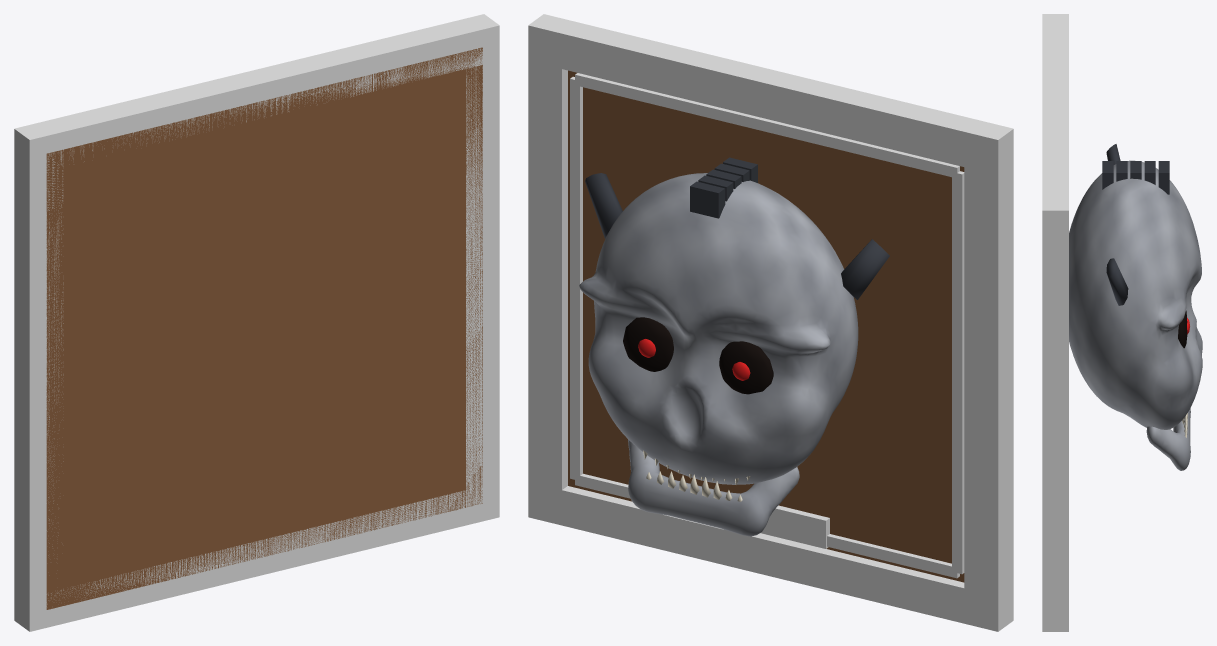
Rendered from skeletron_prime_trophy_v0.glb.
The picture shows the model from 3 angles, left to right: view 1: azimuth 30°, elevation 25°; view 2: azimuth 150°, elevation 25°; view 3: azimuth 270°, elevation 25°; orthographic projection. The views are drawn at different scales.
Visible parts, largest first — view 1: skeletron_prime_trophy_v0; view 2: skeletron_prime_trophy_v0; view 3: skeletron_prime_trophy_v0.
Part boxes in pixels (x1,y1,x2,y2): skeletron_prime_trophy_v0: [14, 14, 499, 631]; skeletron_prime_trophy_v0: [528, 14, 1013, 631]; skeletron_prime_trophy_v0: [1042, 14, 1202, 631].
Bounding box in the file's own units: 1.39 × 1.39 × 0.48.
